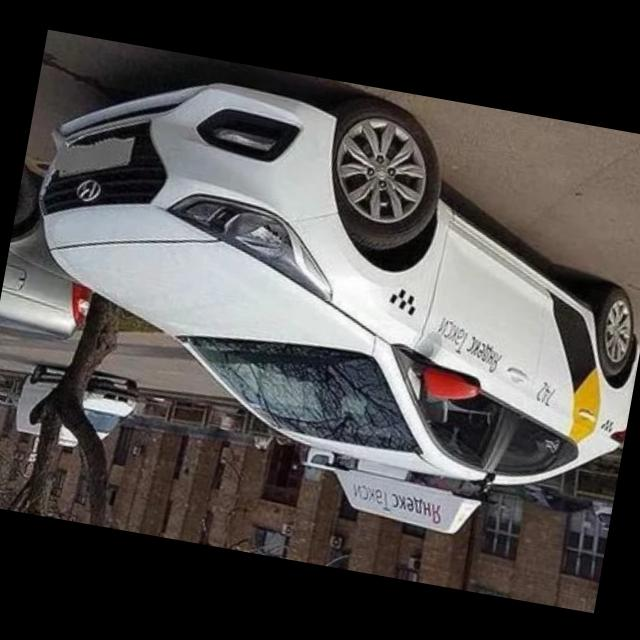taxi: (1, 41, 640, 562)
